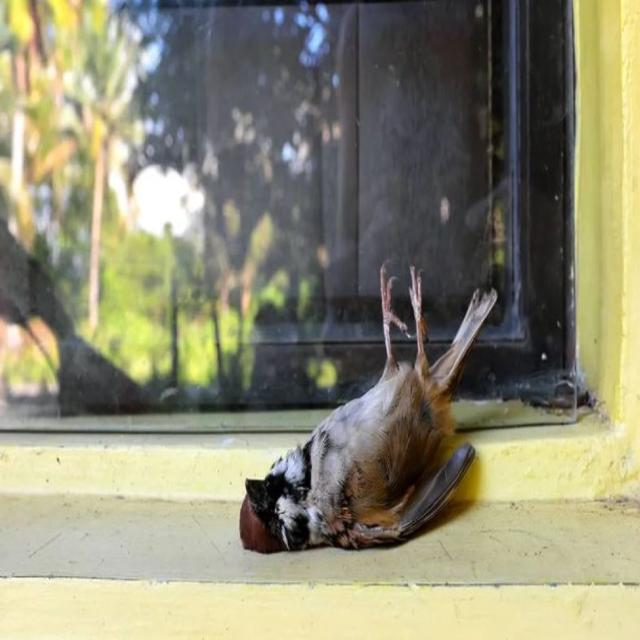Bangkai Burung: (231, 297, 538, 598)
